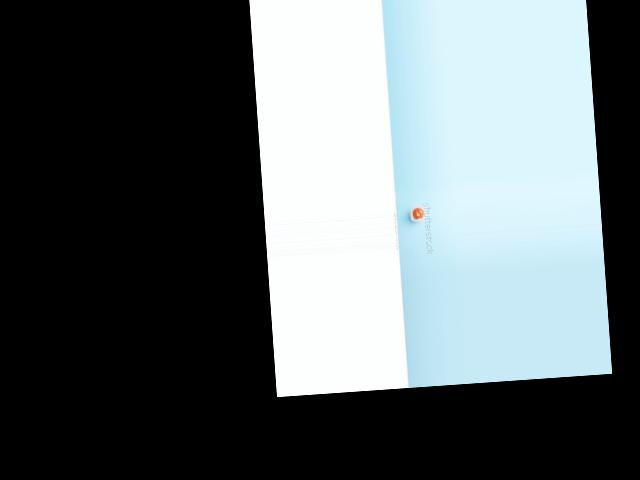tomato: (412, 208, 423, 219)
